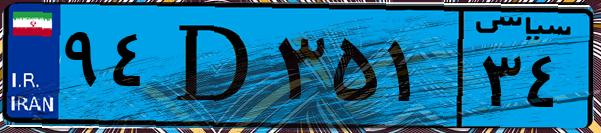1: (385, 28, 445, 110)
3: (270, 28, 330, 110), (475, 38, 525, 113)
4: (525, 38, 570, 115), (110, 28, 158, 98)
5: (330, 28, 385, 110)
9: (57, 26, 110, 100)
D: (158, 12, 270, 120)
